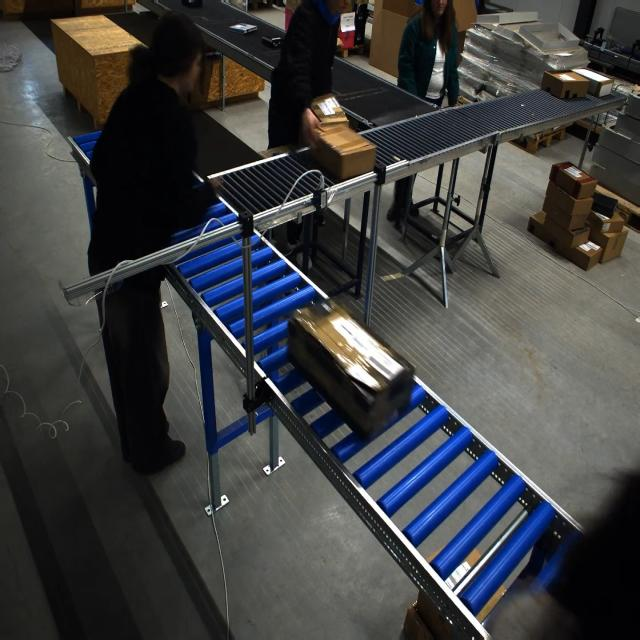box: (257, 278, 394, 428), (318, 124, 375, 180), (519, 21, 583, 55), (310, 93, 343, 127)
product: (228, 23, 258, 34), (261, 36, 281, 48)
